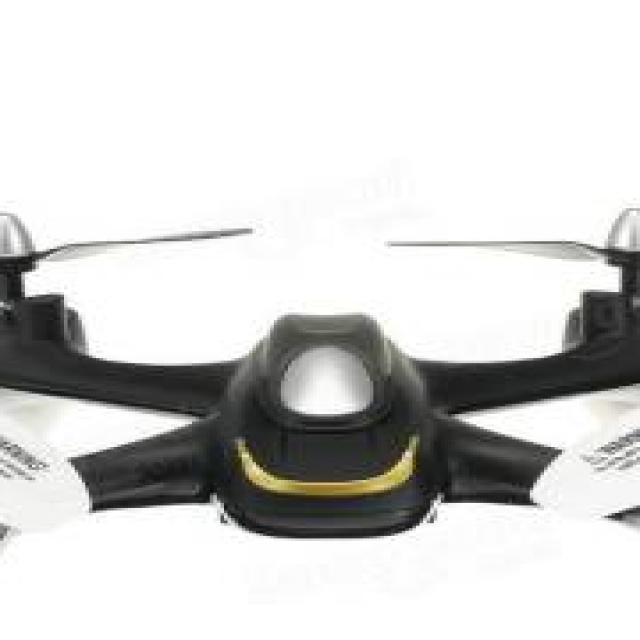drone: (0, 226, 640, 612)
